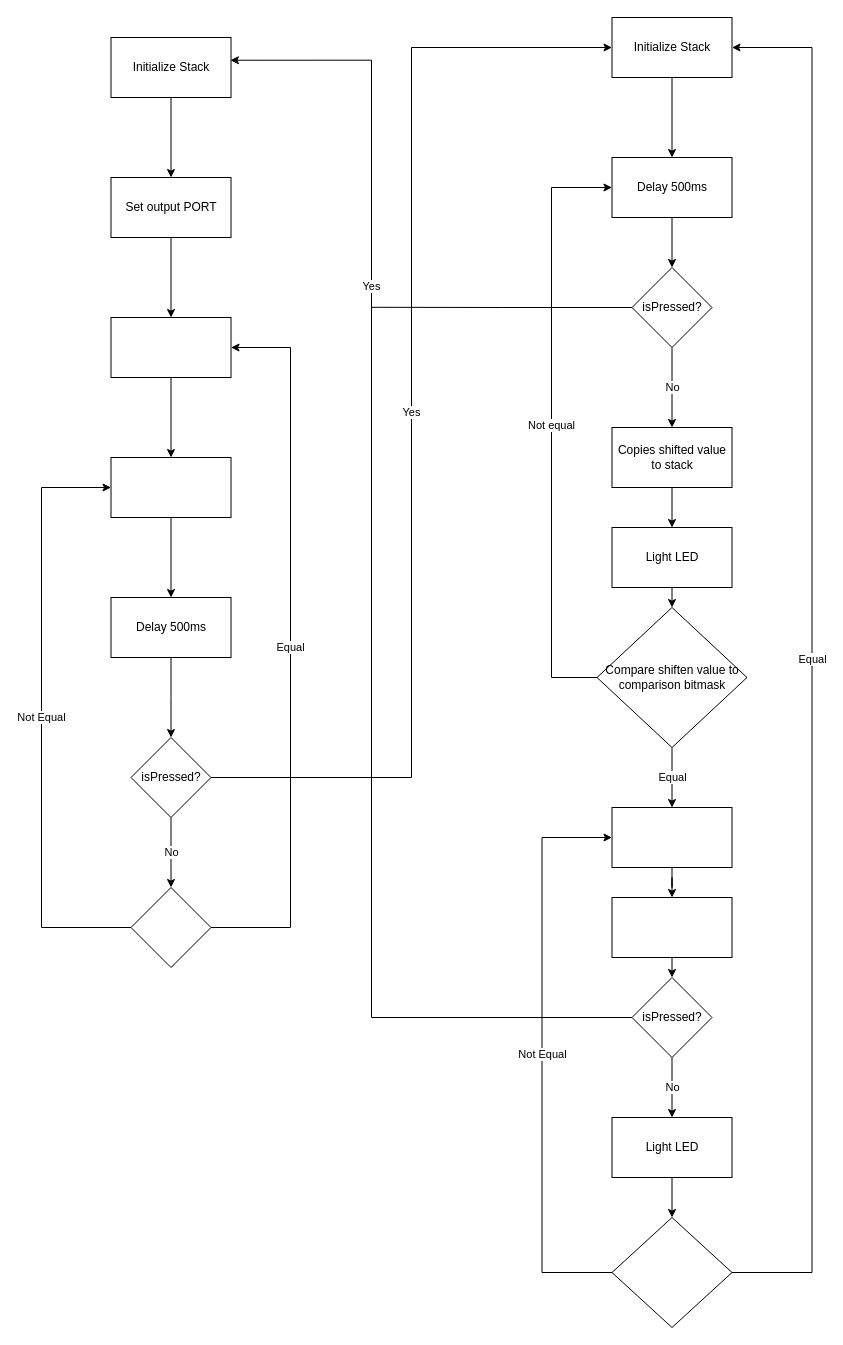
Some shapes in this 843 by 1345 pixel diagram are drawn without their labels. Here are the shapes that lost their labels. From the top down, the centre of each, then its label:
At point (170, 347): "Load Bitmasks".
At point (170, 487): "Light LED & shift bit left".
At point (671, 837): "Pop stack".
At point (170, 927): "Compare bitmasks".
At point (671, 927): "Delay".
At point (671, 1272): "Compare to empty bitmask".
